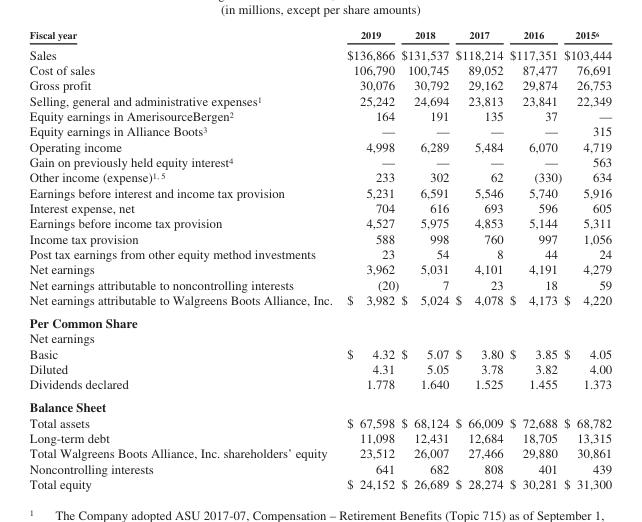table: (28, 28, 611, 490)
table column: (28, 28, 339, 490), (339, 28, 399, 490), (505, 28, 562, 490), (451, 28, 505, 490), (399, 28, 451, 490), (562, 28, 611, 490)
table column header: (28, 28, 611, 43)
table projected row header: (28, 310, 611, 330), (28, 395, 611, 414), (28, 330, 611, 345)
table row: (28, 310, 611, 330), (28, 43, 611, 62), (28, 376, 611, 395), (28, 395, 611, 414), (28, 292, 611, 310), (28, 92, 611, 108), (28, 138, 611, 154), (28, 184, 611, 200), (28, 230, 611, 246), (28, 276, 611, 292), (28, 360, 611, 376), (28, 429, 611, 445), (28, 28, 611, 43), (28, 62, 611, 77), (28, 77, 611, 92), (28, 108, 611, 123), (28, 123, 611, 138), (28, 154, 611, 169), (28, 169, 611, 184), (28, 200, 611, 215), (28, 215, 611, 230), (28, 246, 611, 261), (28, 261, 611, 276), (28, 330, 611, 345), (28, 345, 611, 360), (28, 414, 611, 429), (28, 445, 611, 460), (28, 460, 611, 475), (28, 475, 611, 490)
